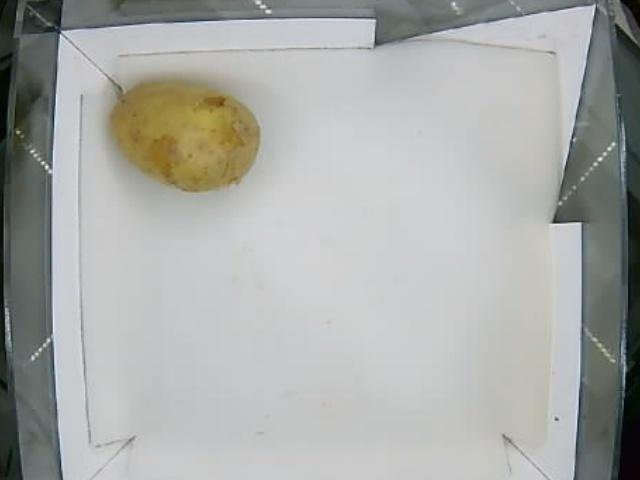Potato: (109, 82, 261, 190)
